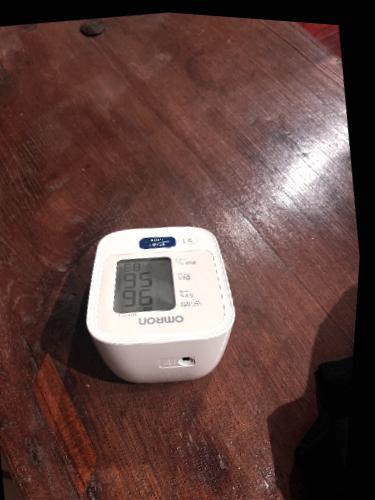bpm: (106, 253, 179, 319)
